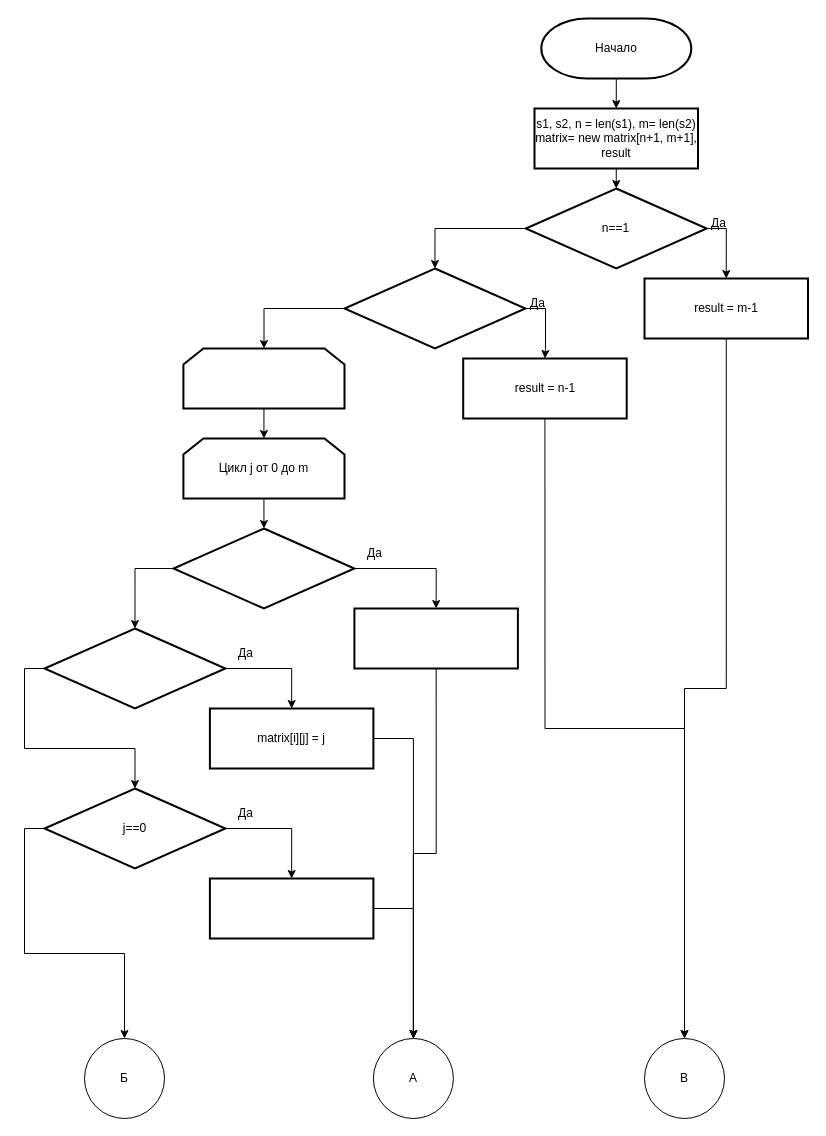
The diagram is 826 pixels wide and 1136 high, and some of its shapes have lost their labels. Each missing label, with the centre of its shape:
"i==0" goes at [134,668].
"i==0 && j ==0" goes at [263,568].
"m==1" goes at [434,308].
"matrix[i][j] = 0" goes at [435,638].
"matrix[i][j] = i" goes at [291,908].
"Цикл i от 0 до n" goes at [263,378].
